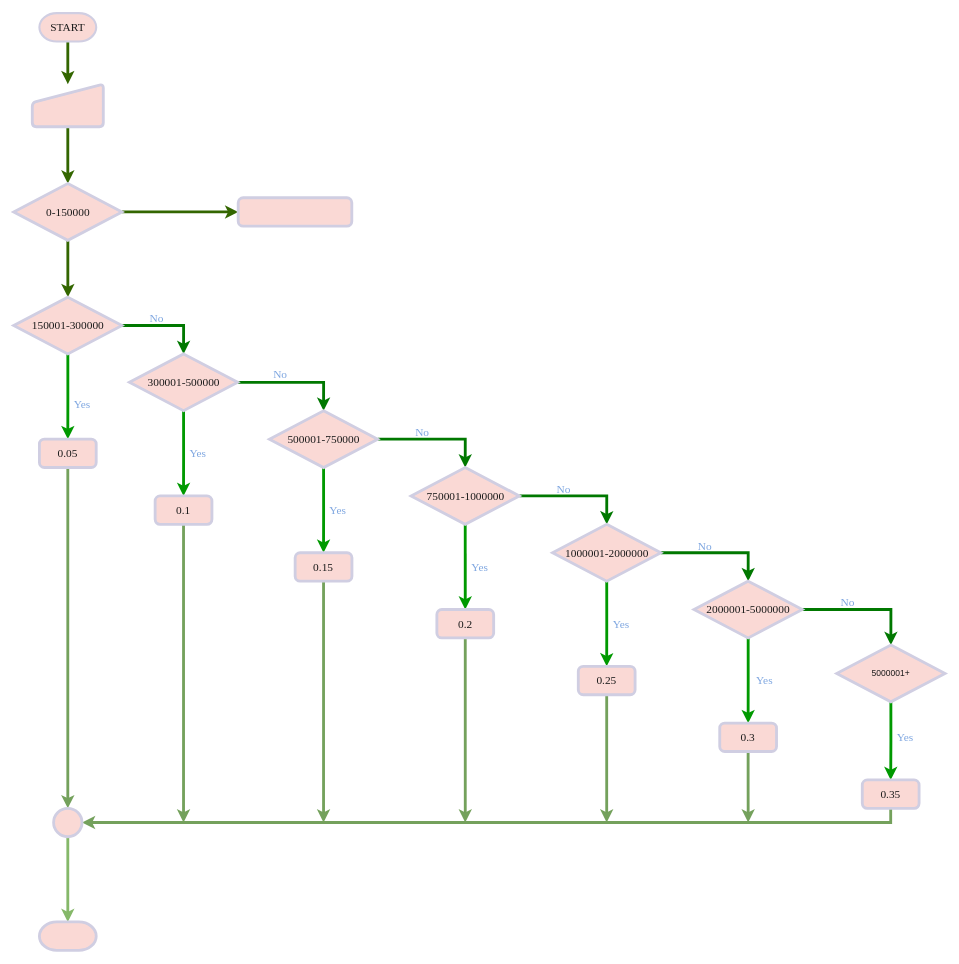
Image size: 959x964. Some labels were removed from this diagram. The shapes that lost their labels are listed below. From the top down, each one's centre as x and y in pixels, then its label:
pixel 67 105: Income tax
pixel 294 211: negative income.
pixel 67 935: END
